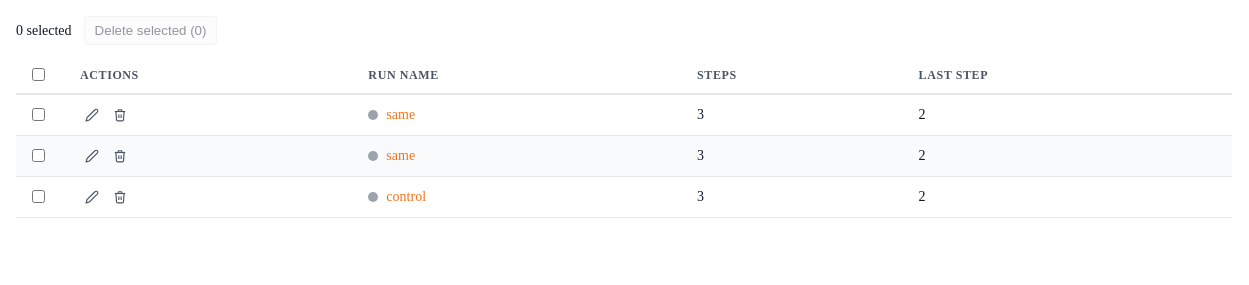
Test: bulk run deletion › shows rename failures beside the run list
The image size is (1249, 285).
Click the 1st button titled "Rename" at (92, 115), box [80,103,104,127]
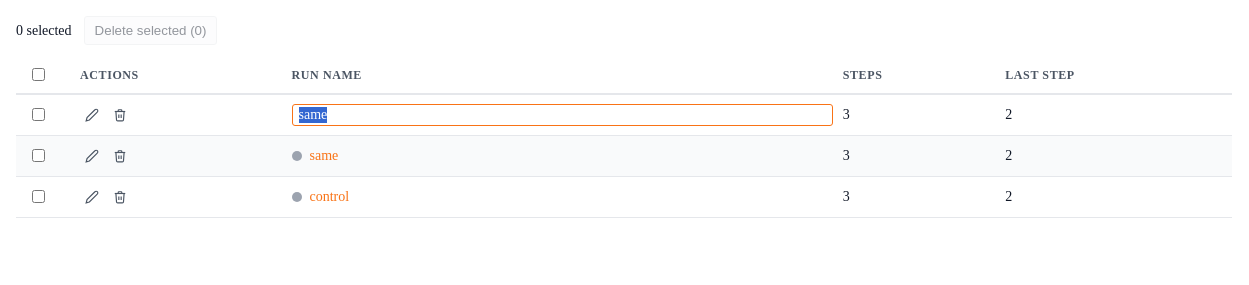
Replace the text in the field with class "rename-input" with "new-name" at (562, 115), box [292,104,833,126]
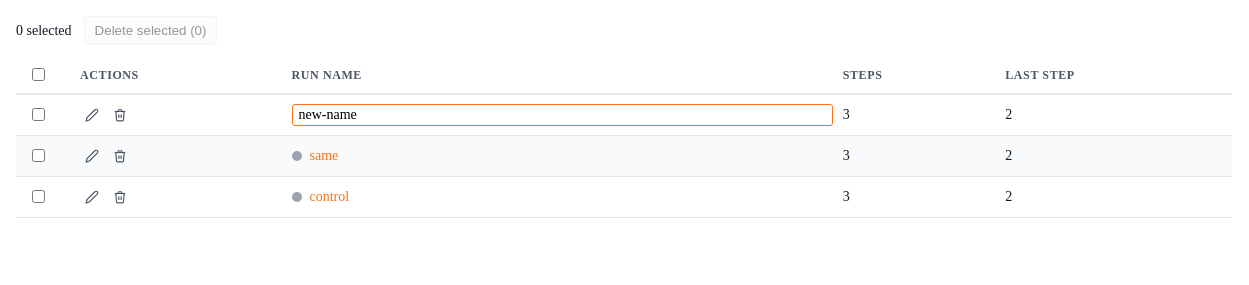
Press Enter in the field with class "rename-input", box [292,104,833,126]
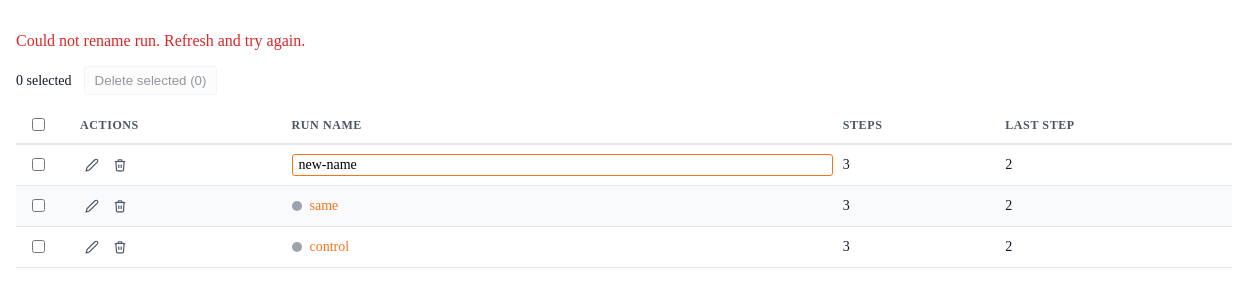
Check: the button "same" is shown, box [310,198,338,214]
Check: the message "Could not rename run. Refresh and try again." is shown, box [16,32,305,49]
